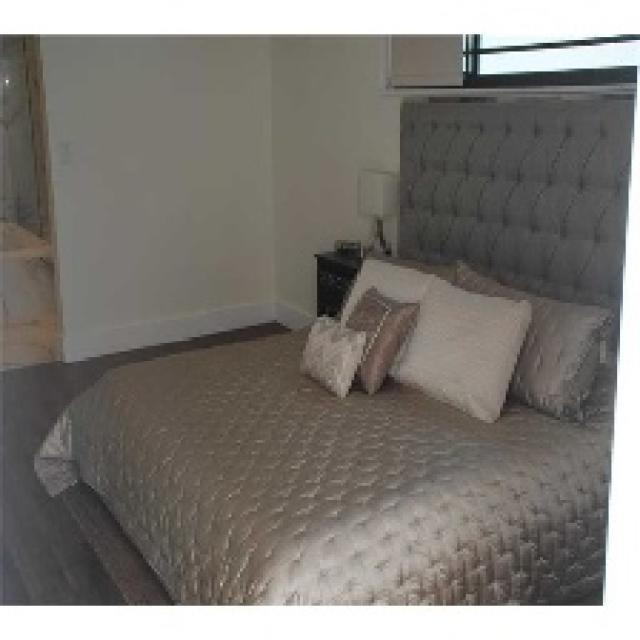Bed: (31, 86, 632, 603)
